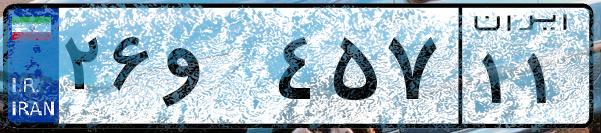1: (475, 38, 525, 113), (525, 38, 570, 115)
2: (57, 26, 110, 100)
4: (270, 28, 330, 110)
5: (330, 28, 385, 110)
6: (110, 28, 158, 98)
7: (385, 28, 445, 110)
و: (158, 20, 270, 120)
